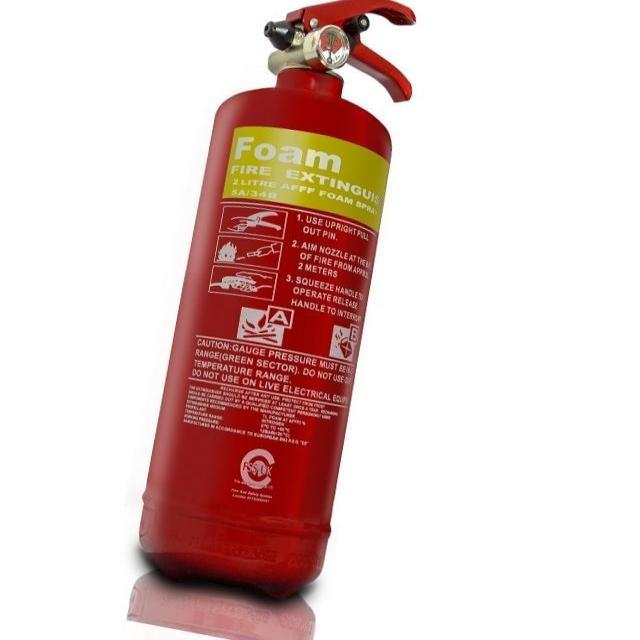fire_extinguisher: (128, 0, 422, 606)
